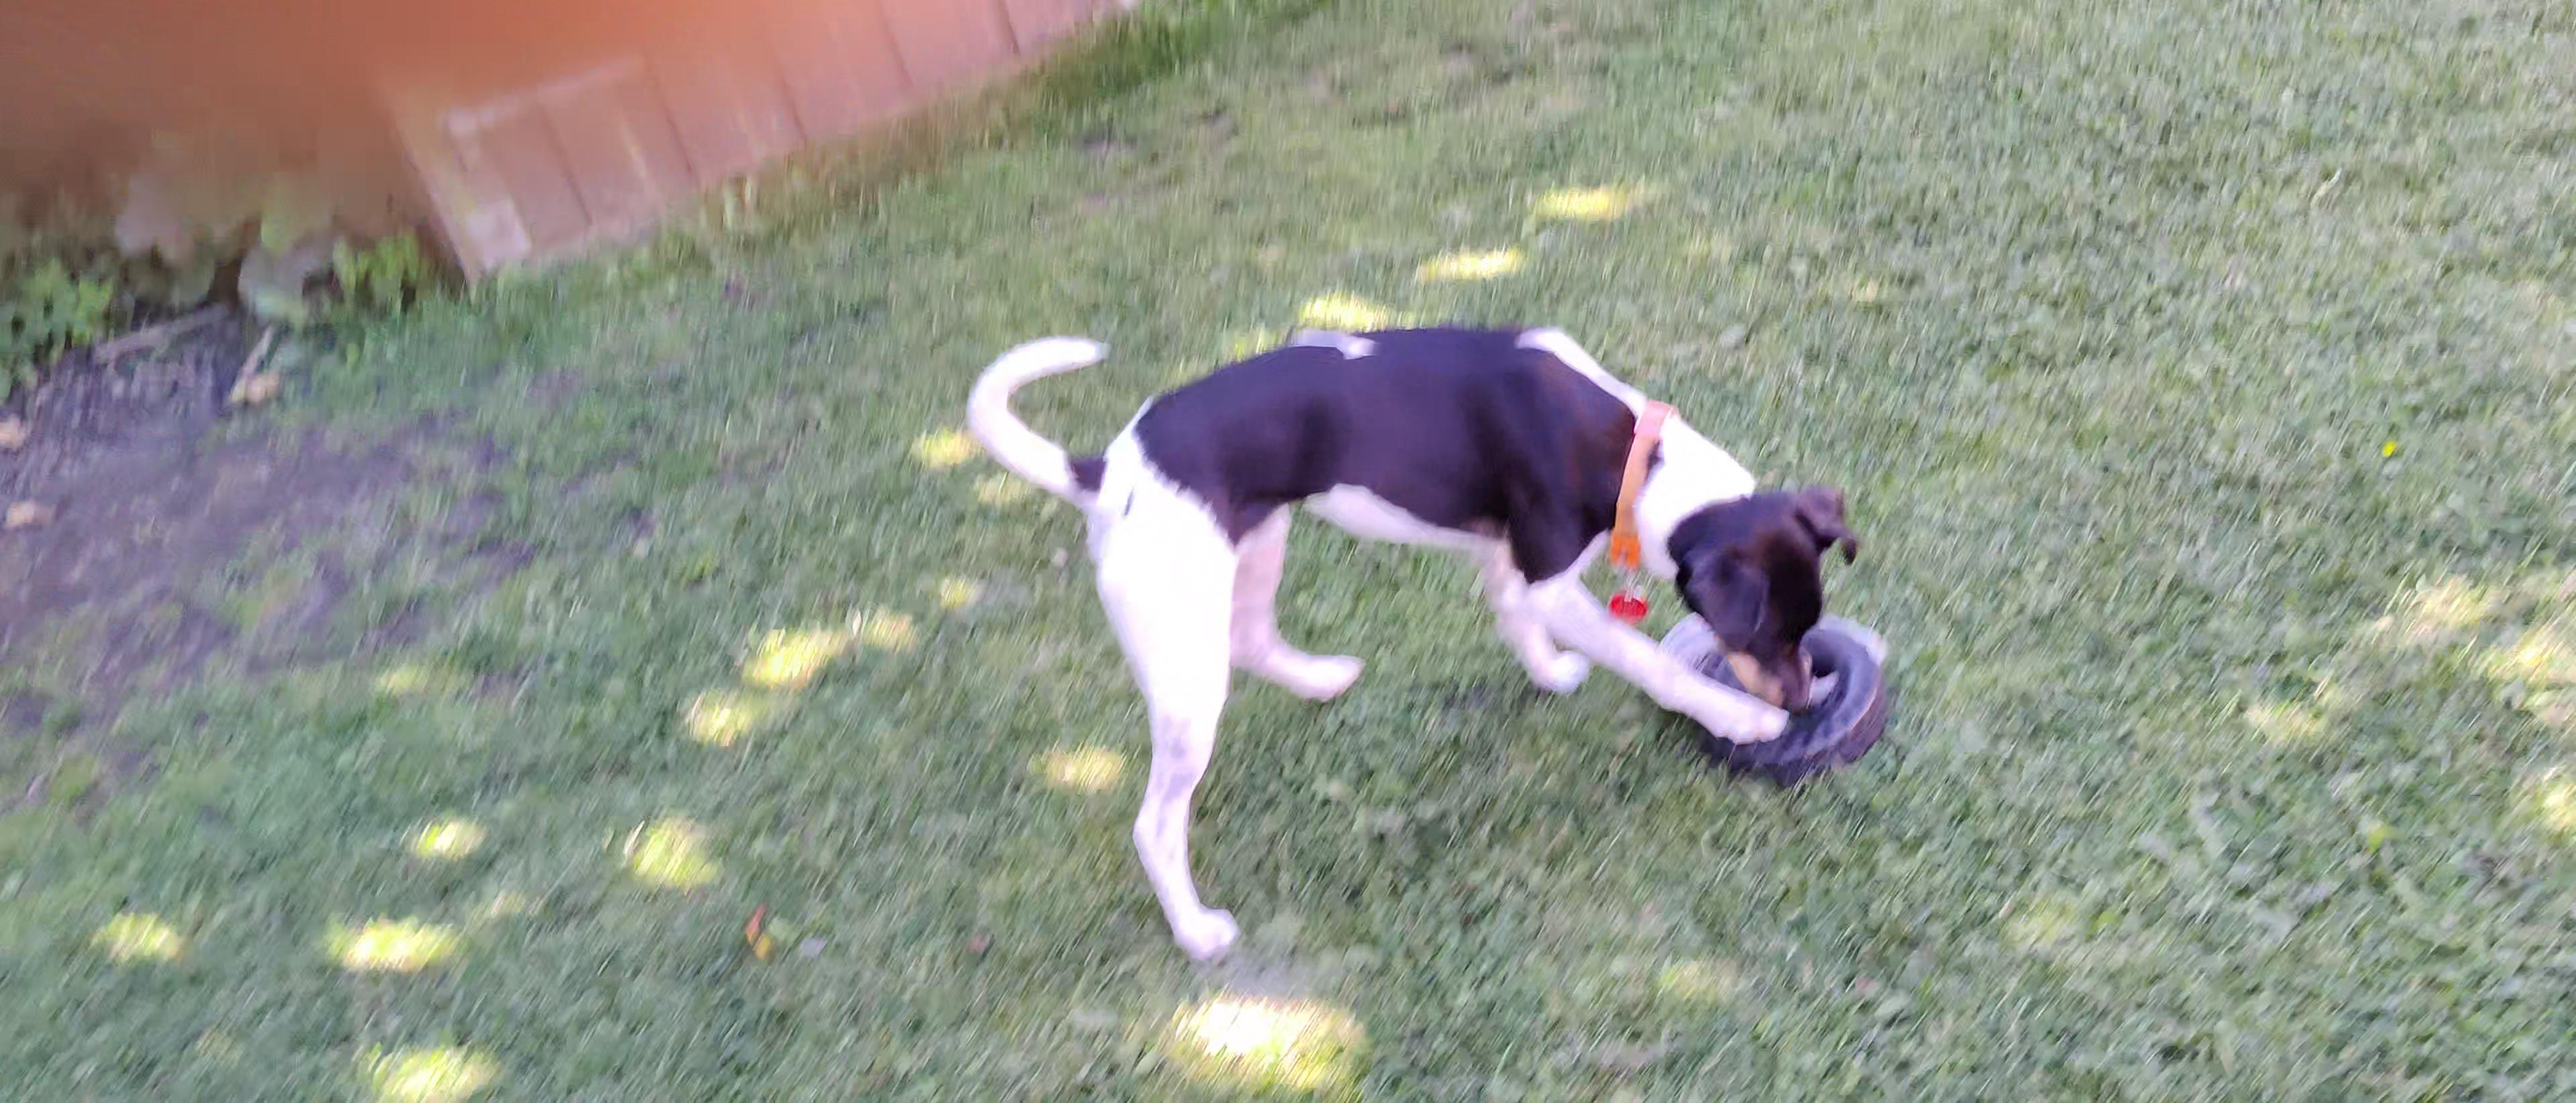Dog: (938, 293, 1878, 960)
